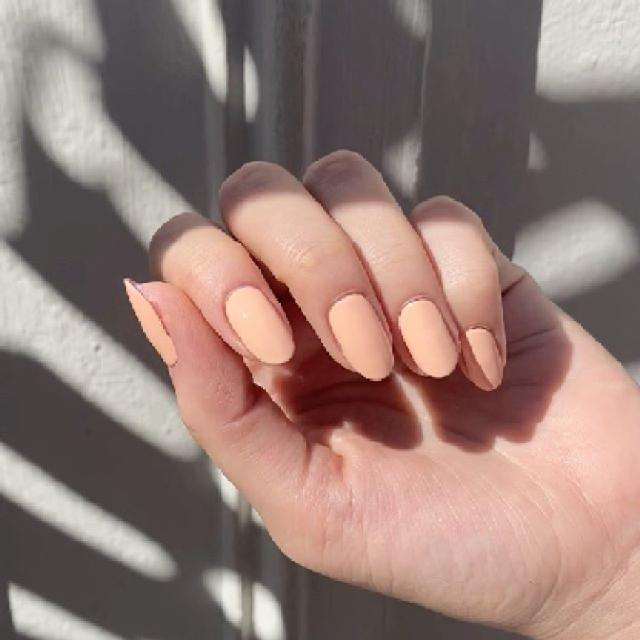Nail: (329, 294, 394, 379), (225, 286, 295, 364), (398, 298, 458, 378), (124, 279, 178, 366), (462, 326, 502, 390)
